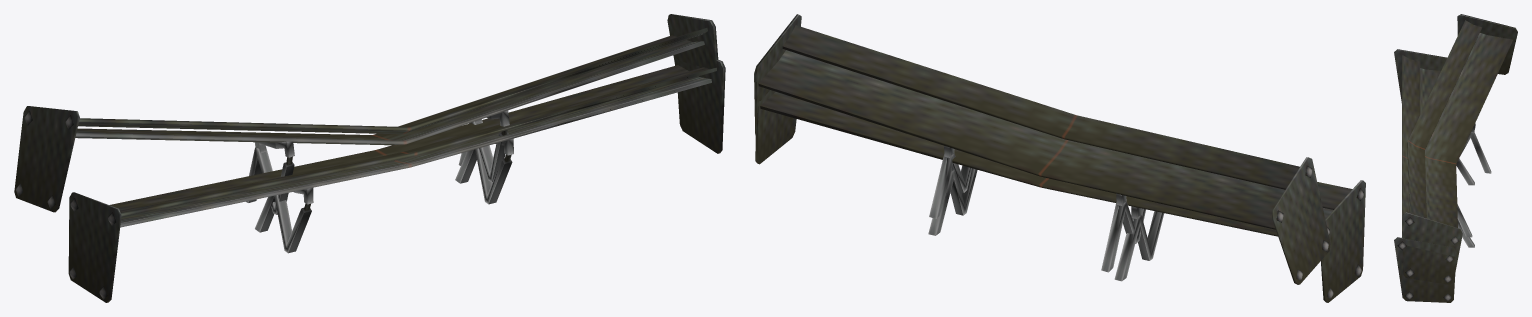
Rendered from spl_c_u_b.glb.
3 views of the same model, side by side, from view 1: azimuth 30°, elevation 25°; view 2: azimuth 150°, elevation 25°; view 3: azimuth 270°, elevation 25° (orthographic). The views are drawn at different scales.
Parts seen in each view (by area): view 1: spl_c_u_b, spl_c_u_b_dam; view 2: spl_c_u_b_dam, spl_c_u_b; view 3: spl_c_u_b_dam, spl_c_u_b.
Part boxes in pixels (x1,y1,x2,y2): spl_c_u_b: (68, 58, 725, 302); spl_c_u_b_dam: (14, 14, 718, 214); spl_c_u_b_dam: (754, 14, 1330, 284); spl_c_u_b: (755, 90, 1365, 302); spl_c_u_b_dam: (1402, 14, 1517, 284); spl_c_u_b: (1394, 49, 1474, 302).
Size of the model in its own units: 1.91 by 0.4986 by 0.5098.
Materials: 2 (1 with a texture image).
